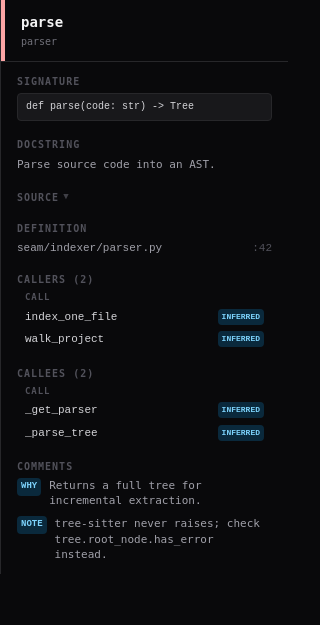
Test: DetailPanel B4 — Source section: ambiguous branch › shows an ambiguous message directing the user to Definitions
The width and height of the screenshot is (320, 625).
Expected: the heading "parse" is shown, [21, 14, 63, 30]
Click the button "Source ▼".
click(144, 197)  # box [17, 190, 272, 205]
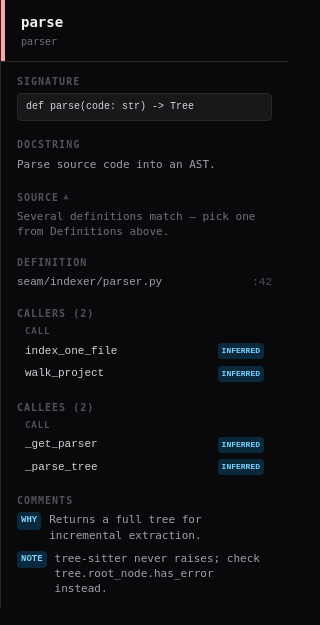
Expected: the text "Several definitions match — pick one from Definitions above." is shown, [17, 209, 272, 239]
